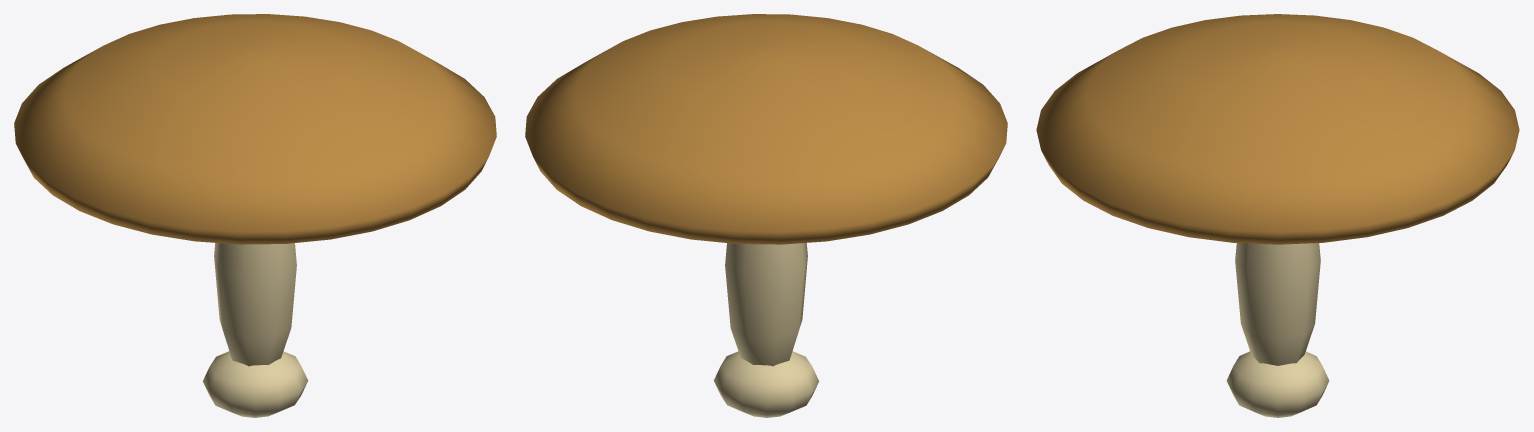
Rendered from lvl01_environment_mushroom_umbrella_v01.glb.
3 views of the same model, side by side, from view 1: azimuth 30°, elevation 25°; view 2: azimuth 150°, elevation 25°; view 3: azimuth 270°, elevation 25° (orthographic).
Visible parts, largest first — view 1: cap, stem, base; view 2: cap, stem, base; view 3: cap, stem, base.
Part boxes in pixels (x1=…): cap: x1=14, y1=14, x2=496, y2=244; stem: x1=214, y1=243, x2=296, y2=366; base: x1=202, y1=351, x2=308, y2=417; cap: x1=525, y1=14, x2=1007, y2=244; stem: x1=725, y1=243, x2=807, y2=366; base: x1=713, y1=351, x2=819, y2=417; cap: x1=1036, y1=14, x2=1519, y2=244; stem: x1=1235, y1=243, x2=1320, y2=365; base: x1=1226, y1=351, x2=1329, y2=417.
Size of the model in its own units: 1.24 by 1.01 by 1.24.
Materials: 1 (1 with a texture image).
